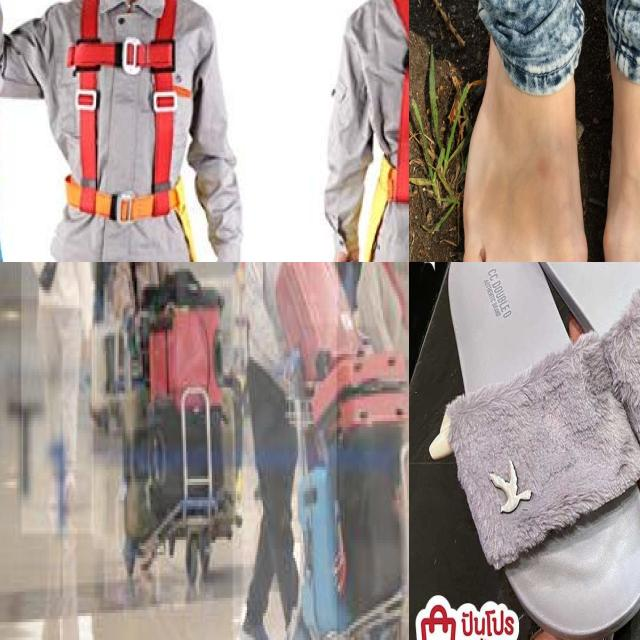Barefoots: (463, 0, 588, 262)
Harness: (64, 0, 186, 226), (376, 0, 409, 208)
Sandals: (433, 262, 640, 640)
person: (232, 262, 338, 640), (21, 262, 94, 536), (96, 262, 178, 396), (352, 262, 409, 418), (309, 262, 376, 326)
shoes: (236, 610, 279, 640)
